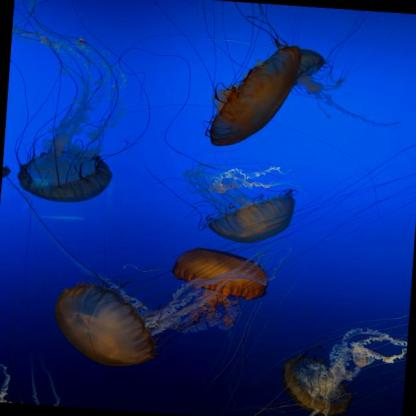jellyfish: (208, 38, 302, 150), (51, 280, 162, 370), (15, 145, 114, 204), (171, 245, 269, 300), (204, 189, 297, 245), (277, 351, 355, 415), (271, 44, 331, 81), (1, 159, 10, 185)
